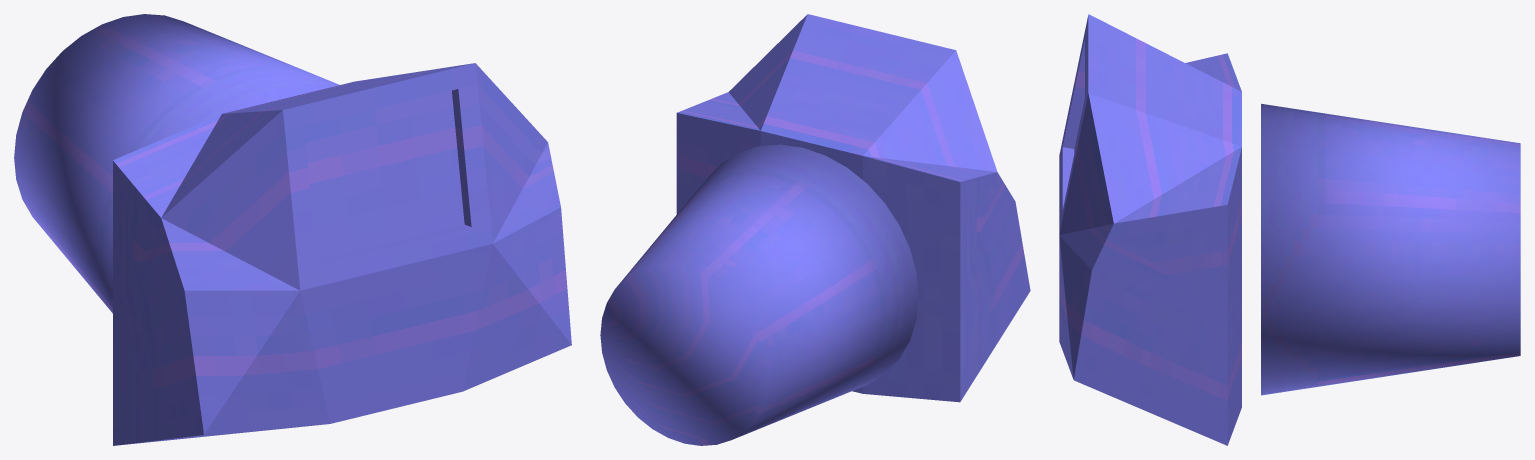
The model's file is multitool.obj.
3 renders of one model, left to right at view 1: azimuth 30°, elevation 25°; view 2: azimuth 150°, elevation 25°; view 3: azimuth 270°, elevation 25°, orthographic. The views are drawn at different scales.
Parts seen in each view (by area): view 1: Cube_Cube.001; view 2: Cube_Cube.001; view 3: Cube_Cube.001.
Part boxes in pixels (x1,y1,x2,y2): Cube_Cube.001: (14,14,571,445); Cube_Cube.001: (600,14,1030,445); Cube_Cube.001: (1059,14,1520,445).
Bounding box in the file's own units: 0.5 × 0.5051 × 0.6434.
Materials: 1 (1 with a texture image).
